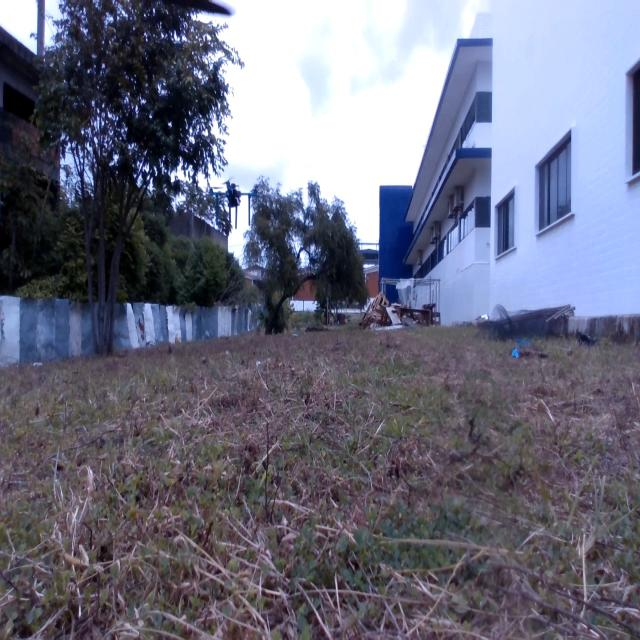-uav-: (198, 168, 272, 242)
